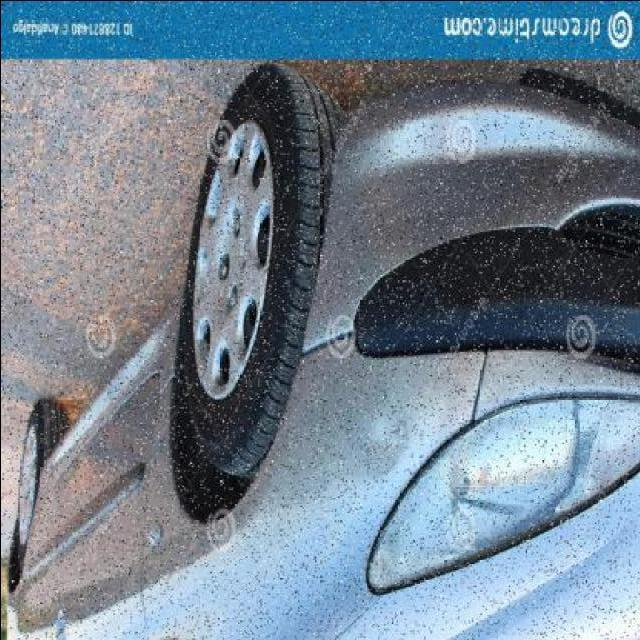fender-dent: (150, 304, 424, 502)
